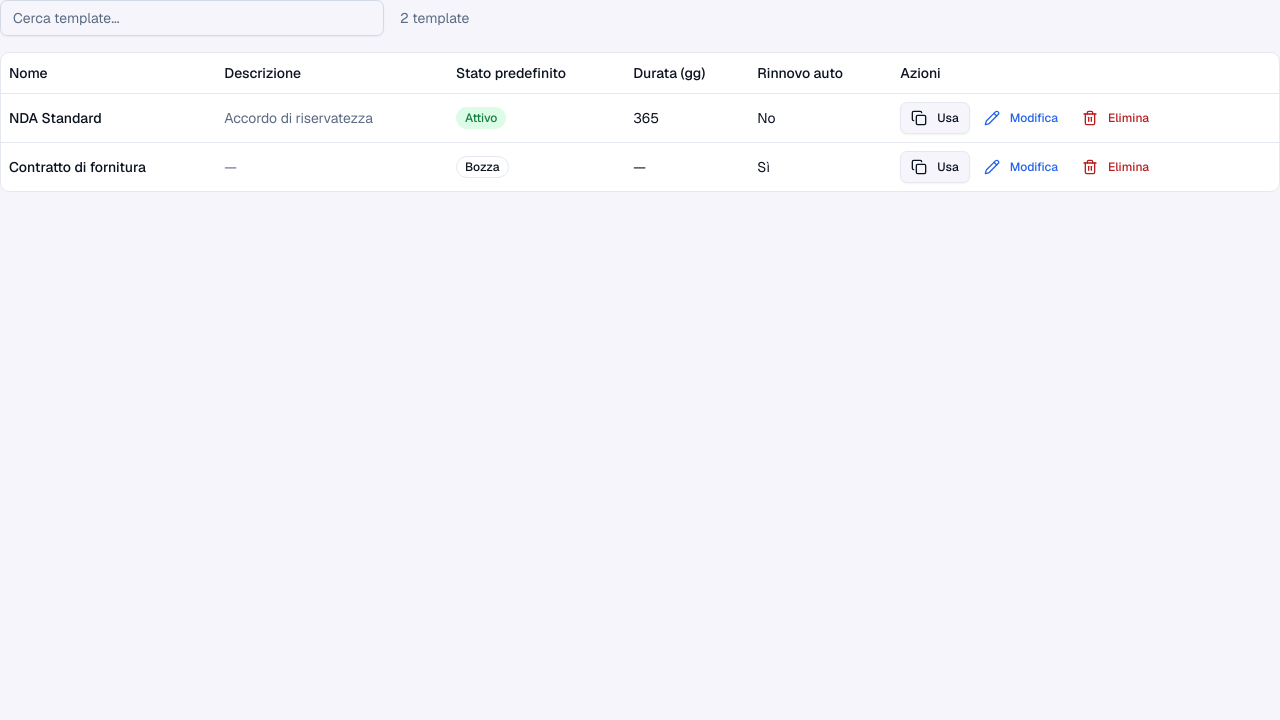
Scenario: ContractTemplateTable › closes delete dialog when Annulla is clicked
What coordinates should you click on to do the following:
click the button "Elimina" in the row of "NDA Standard"
I would click on:
 (1116, 118)
Its box is [1072, 102, 1159, 134].
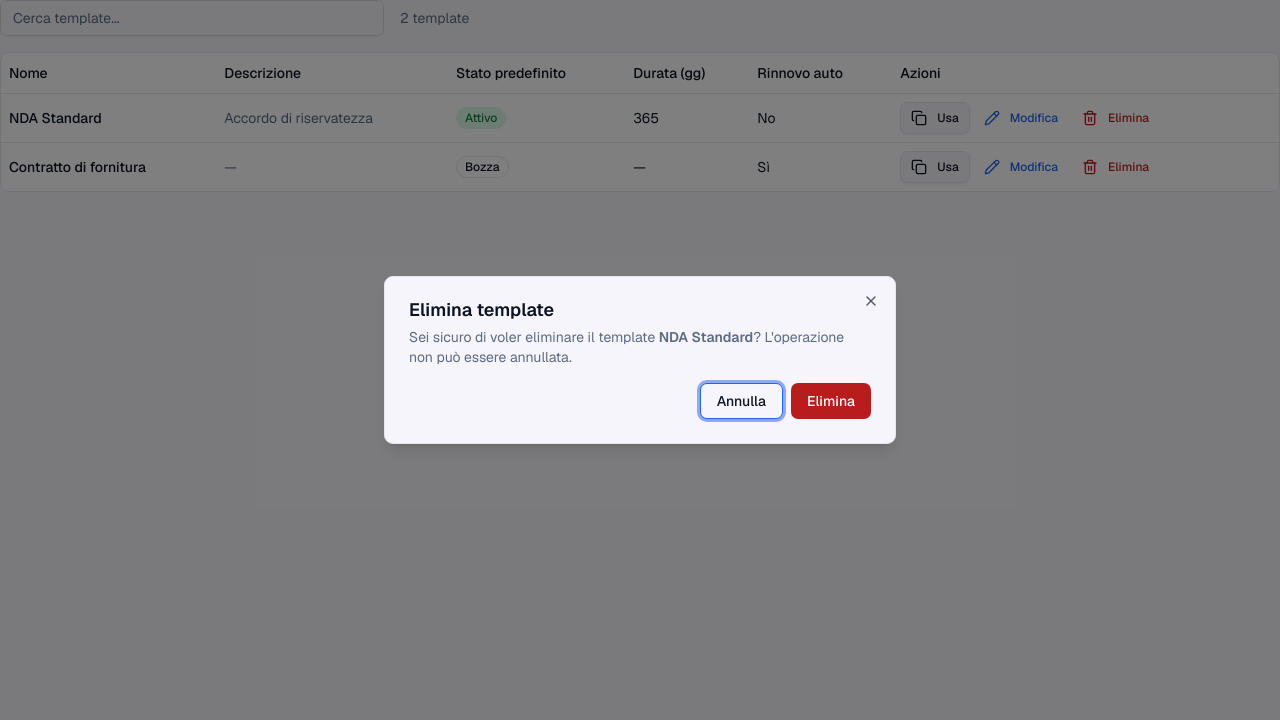
What coordinates should you click on to do the following:
click the button "Annulla"
I would click on:
 (741, 401)
Its box is [700, 383, 783, 419].
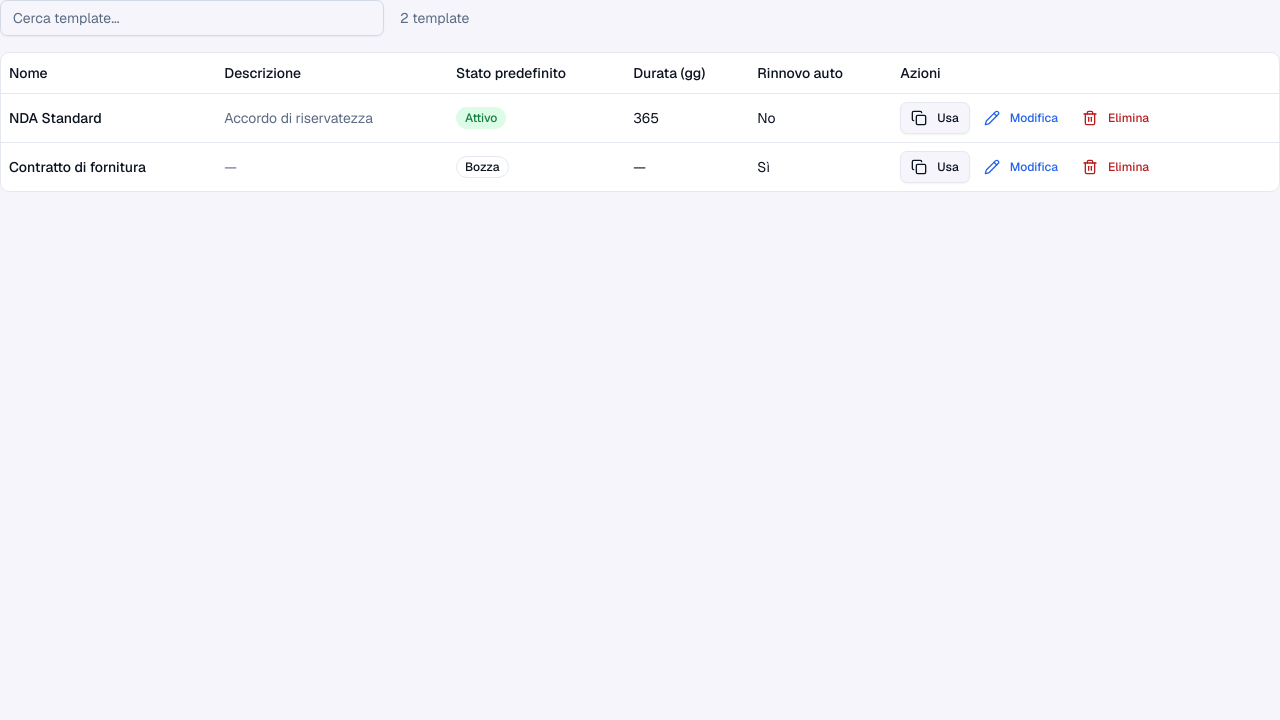
Now the text "Sei sicuro" is gone
